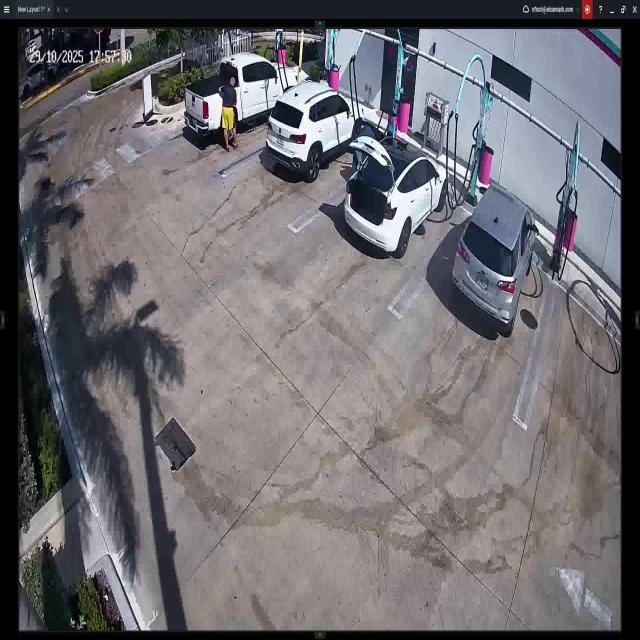Car: (344, 132, 446, 262), (457, 184, 538, 335), (182, 51, 298, 143), (266, 83, 365, 179)
